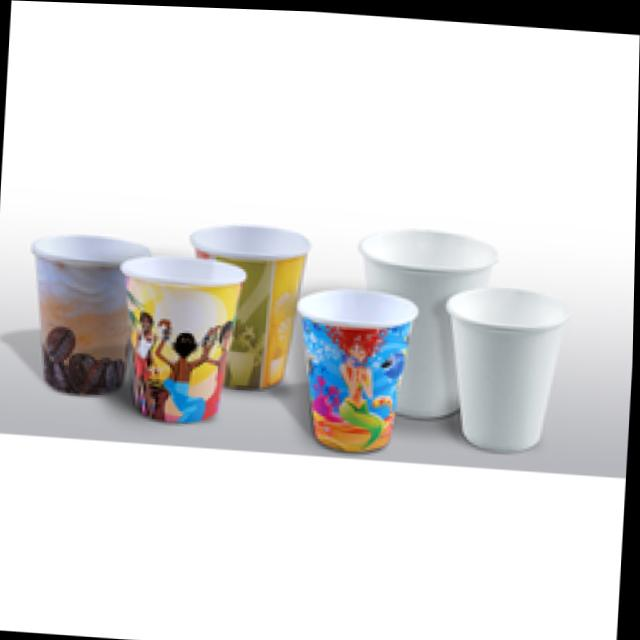paper_cups: (354, 216, 497, 421), (180, 220, 318, 392), (287, 280, 419, 455), (113, 244, 239, 427), (440, 278, 567, 449), (24, 228, 146, 398)
